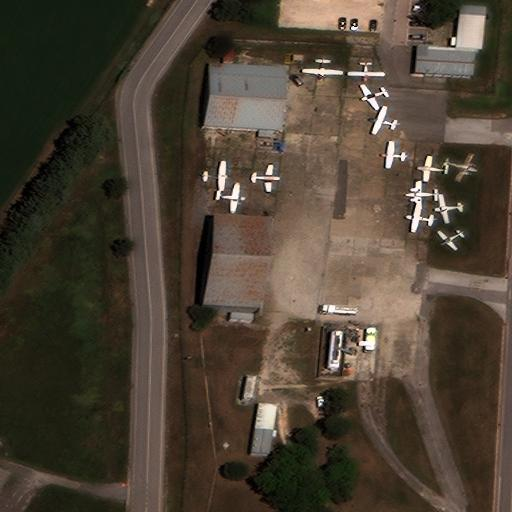Small Civil Transport: (443, 154, 477, 182), (216, 182, 246, 212), (249, 163, 280, 192), (406, 181, 438, 207), (434, 194, 462, 223), (367, 106, 397, 133), (416, 156, 447, 182), (202, 161, 229, 190), (302, 58, 342, 77), (405, 207, 435, 231), (347, 60, 384, 79), (381, 141, 407, 168), (358, 85, 386, 110), (437, 232, 461, 250)
